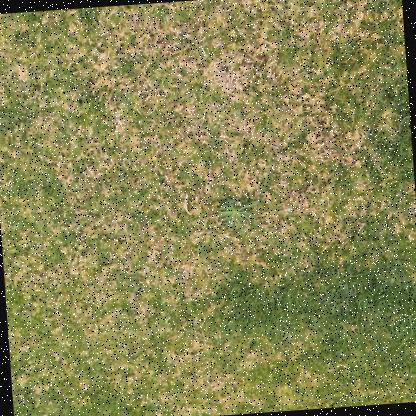Weeds: (215, 197, 262, 231)
